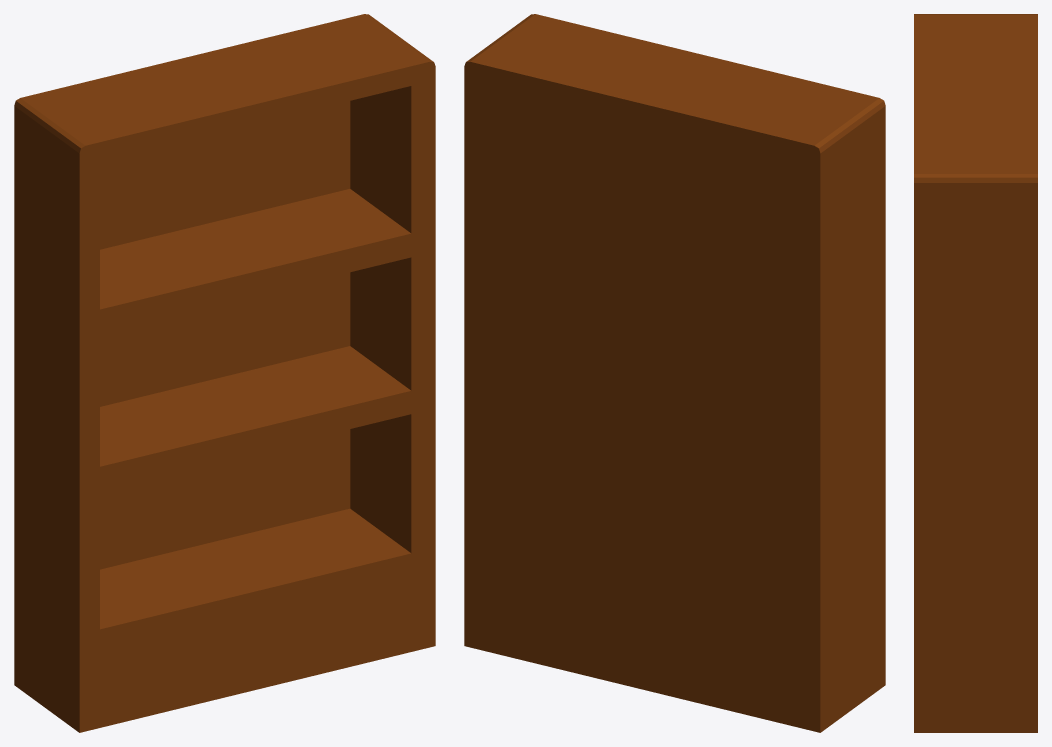
File: book_shelf_001.FBX
3 renders of one model, left to right at view 1: azimuth 30°, elevation 25°; view 2: azimuth 150°, elevation 25°; view 3: azimuth 270°, elevation 25°, orthographic. The views are drawn at different scales.
Parts seen in each view (by area): view 1: Box015; view 2: Box015; view 3: Box015.
Boxes of the visible parts, x1,y1,x2,y2 form: Box015: [14, 14, 435, 732]; Box015: [464, 14, 885, 732]; Box015: [914, 14, 1037, 732].
Size of the model in its own units: 0.8054 by 1.27 by 0.2557.
